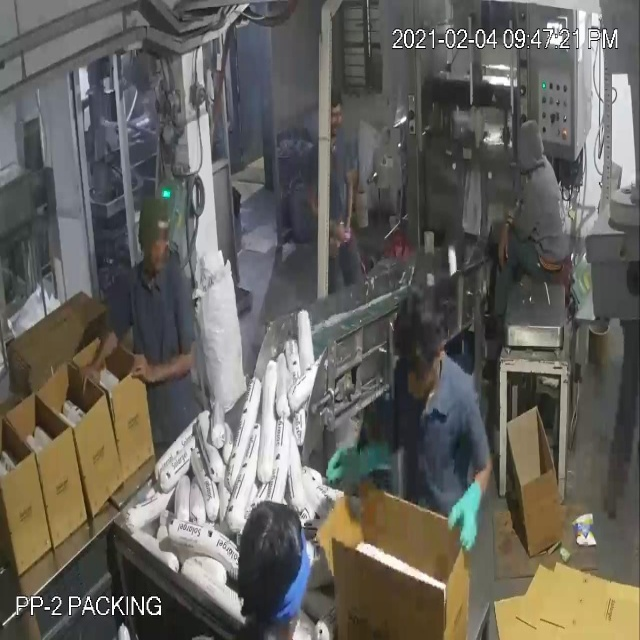Guantes: (321, 436, 400, 498), (443, 462, 486, 559)
Sin_guantes: (127, 342, 199, 393), (76, 329, 121, 398), (492, 205, 517, 276), (341, 171, 360, 244)
